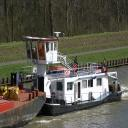tugboat: (11, 32, 124, 121)
